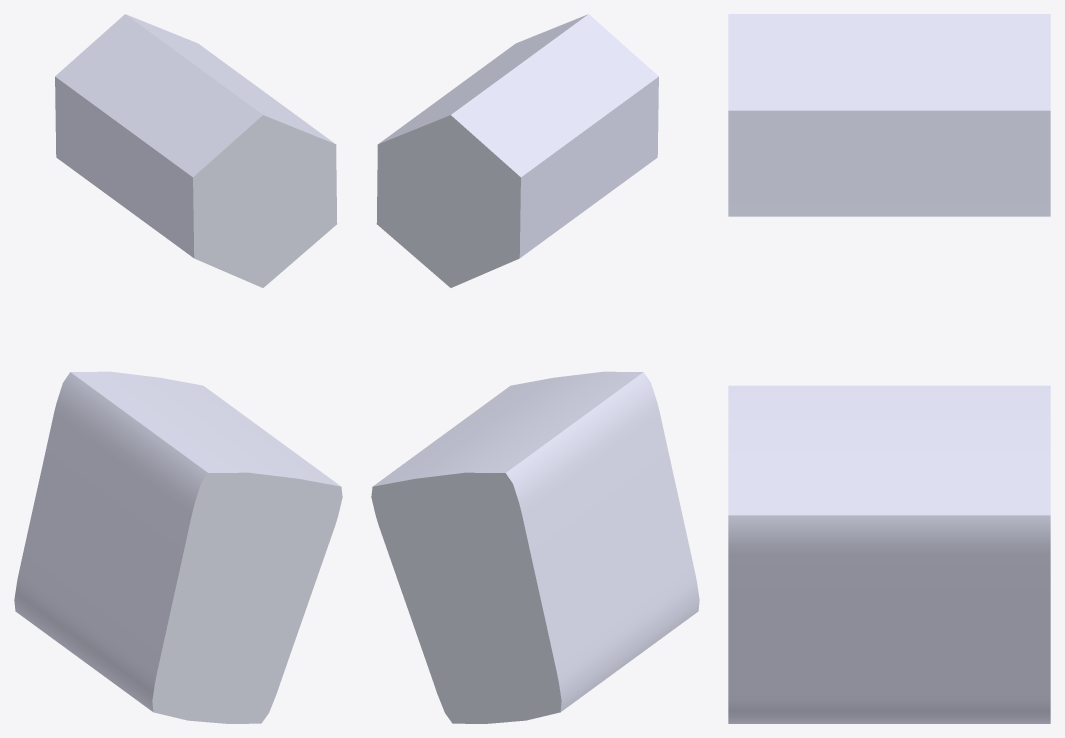
The picture shows the model from 3 angles, left to right: view 1: azimuth 30°, elevation 25°; view 2: azimuth 150°, elevation 25°; view 3: azimuth 270°, elevation 25°; orthographic projection. The views are drawn at different scales.
Parts seen in each view (by area): view 1: symbol;_Zyzol_Grey; view 2: symbol;_Zyzol_Grey; view 3: symbol;_Zyzol_Grey.
Part boxes in pixels (bbox=[...]): symbol;_Zyzol_Grey: bbox=[14, 14, 342, 723]; symbol;_Zyzol_Grey: bbox=[371, 14, 699, 723]; symbol;_Zyzol_Grey: bbox=[728, 14, 1050, 723].
Size of what is drawn, in the model's own units: 0.0358 by 0.1094 by 0.045.
Materials: 2 (2 with a texture image).
